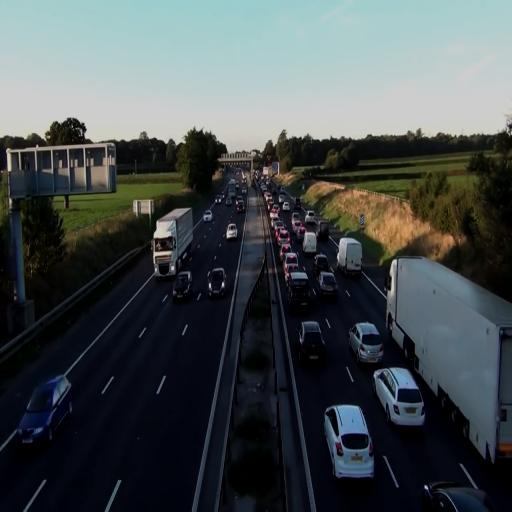vehicle: (385, 254, 512, 468), (385, 254, 512, 466), (17, 374, 73, 450), (323, 403, 375, 481), (372, 365, 426, 428), (422, 465, 494, 511), (152, 206, 194, 278), (420, 480, 494, 512), (348, 321, 384, 365), (298, 320, 326, 366), (337, 235, 363, 278), (337, 236, 363, 278), (289, 269, 311, 315), (207, 267, 227, 299), (317, 271, 338, 301), (173, 270, 192, 302), (282, 250, 298, 278), (225, 220, 238, 242), (204, 210, 212, 222)
